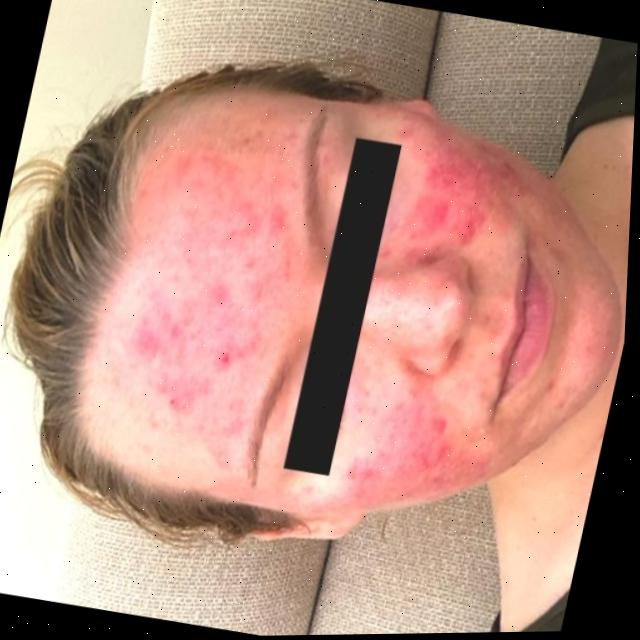Rosacea: (113, 109, 316, 428), (398, 132, 523, 251), (357, 398, 472, 508)
